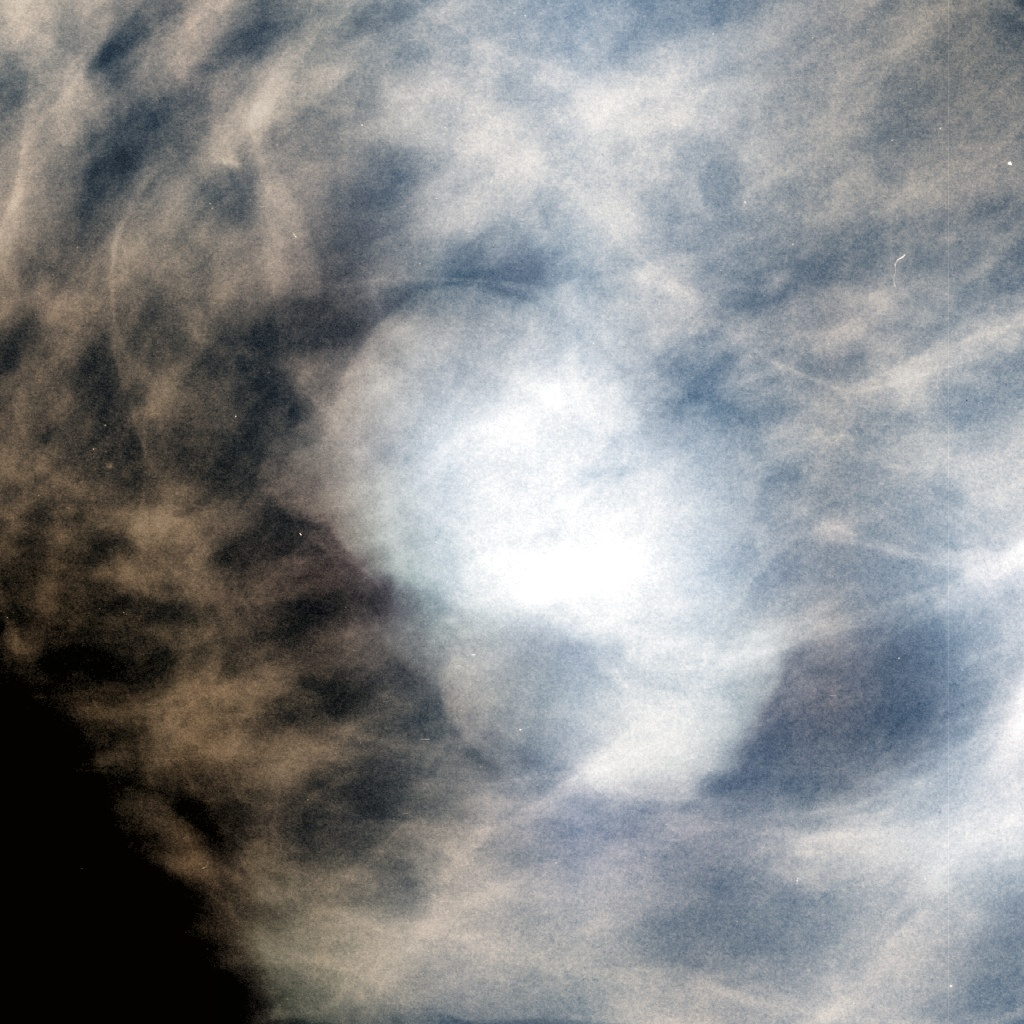tumor: (263, 282, 761, 742)
